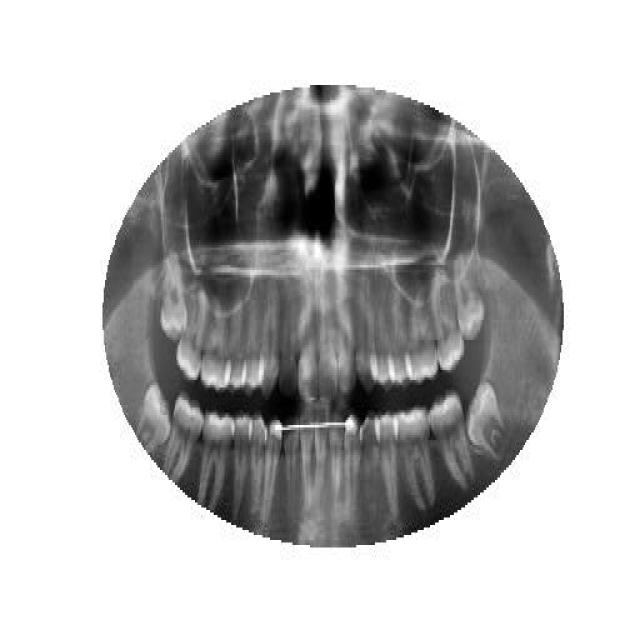Impacted Tooth: (466, 380, 506, 458), (159, 247, 189, 345), (136, 382, 174, 452)
